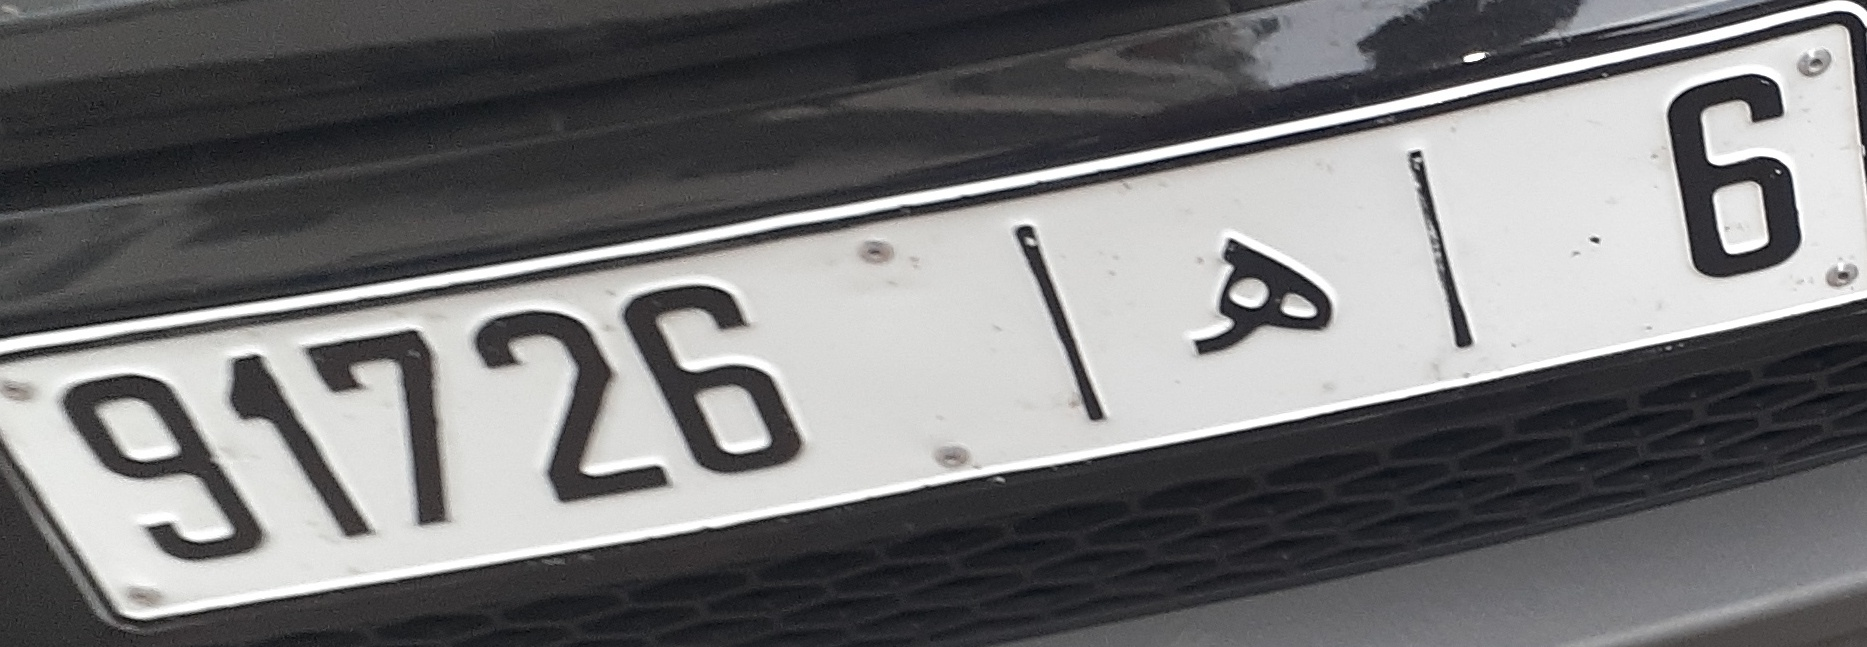1: (220, 349, 370, 554)
2: (469, 311, 669, 503)
6: (621, 285, 810, 481), (1662, 67, 1812, 285)
7: (302, 336, 458, 534)
9: (53, 375, 277, 578)
h: (1180, 226, 1347, 364)
